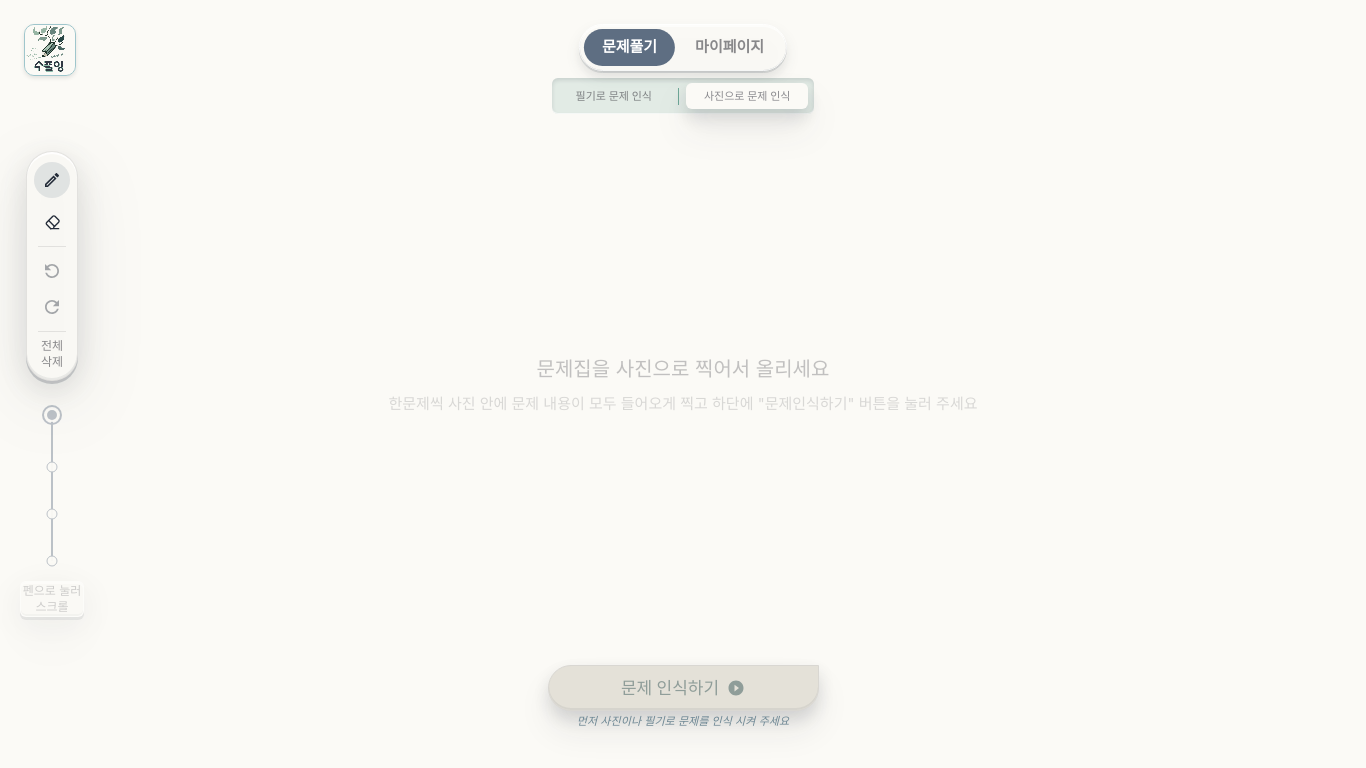
Test: recognize/solve API 연동(모킹) — Result Panel 표시 › 풀이 성공 후 AI가 만들어준 제안 질문 pill이 표시되고, 누르면 입력창을 거치지 않고 곧바로 전송된다(오너 요청, 2026-09)
The image size is (1366, 768).
Press the mouse on the drawing at {"x": 683, "y": 384}, box [0,0,1365,767]
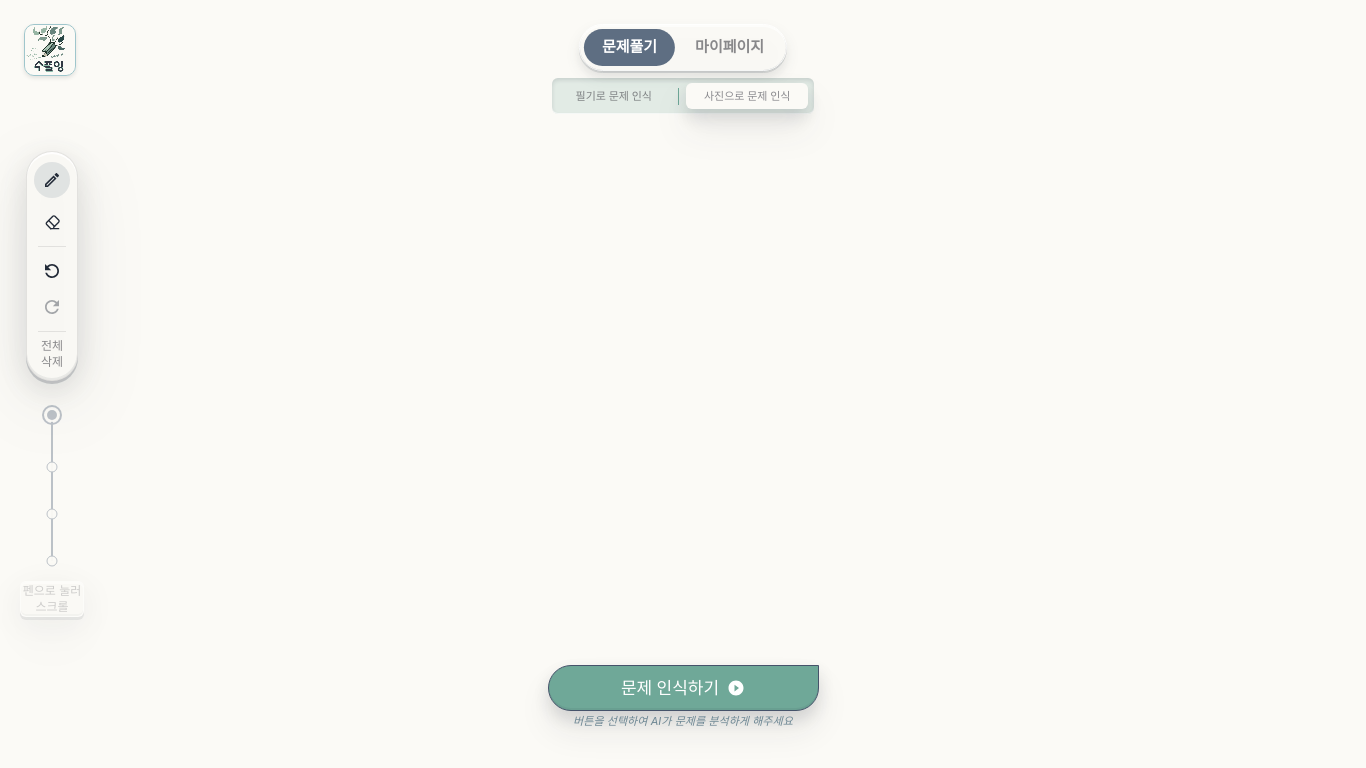
Click the button "문제 인식하기" at {"x": 683, "y": 688}, box [548,665,818,711]
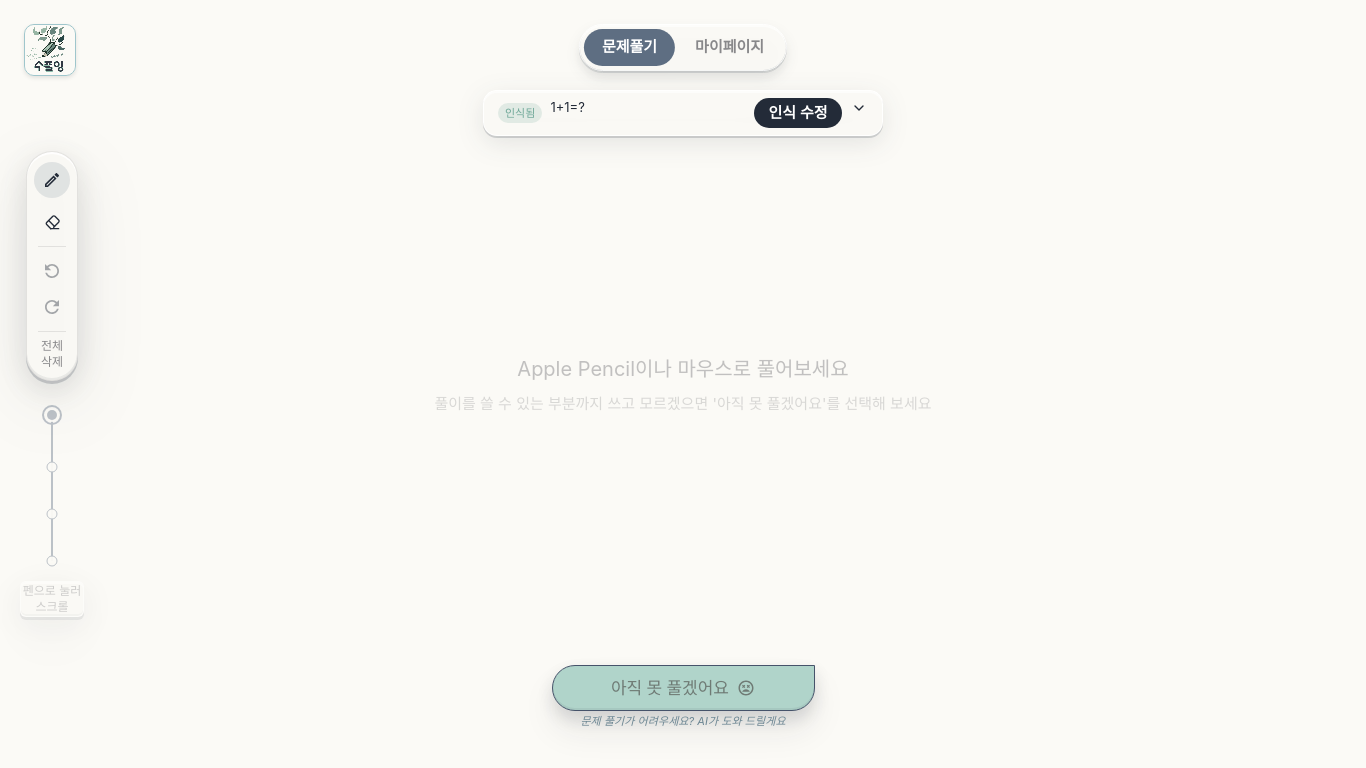
Result: the button "아직 못 풀겠어요" is enabled
Click the button "아직 못 풀겠어요" at {"x": 683, "y": 688}, box [552,665,814,711]
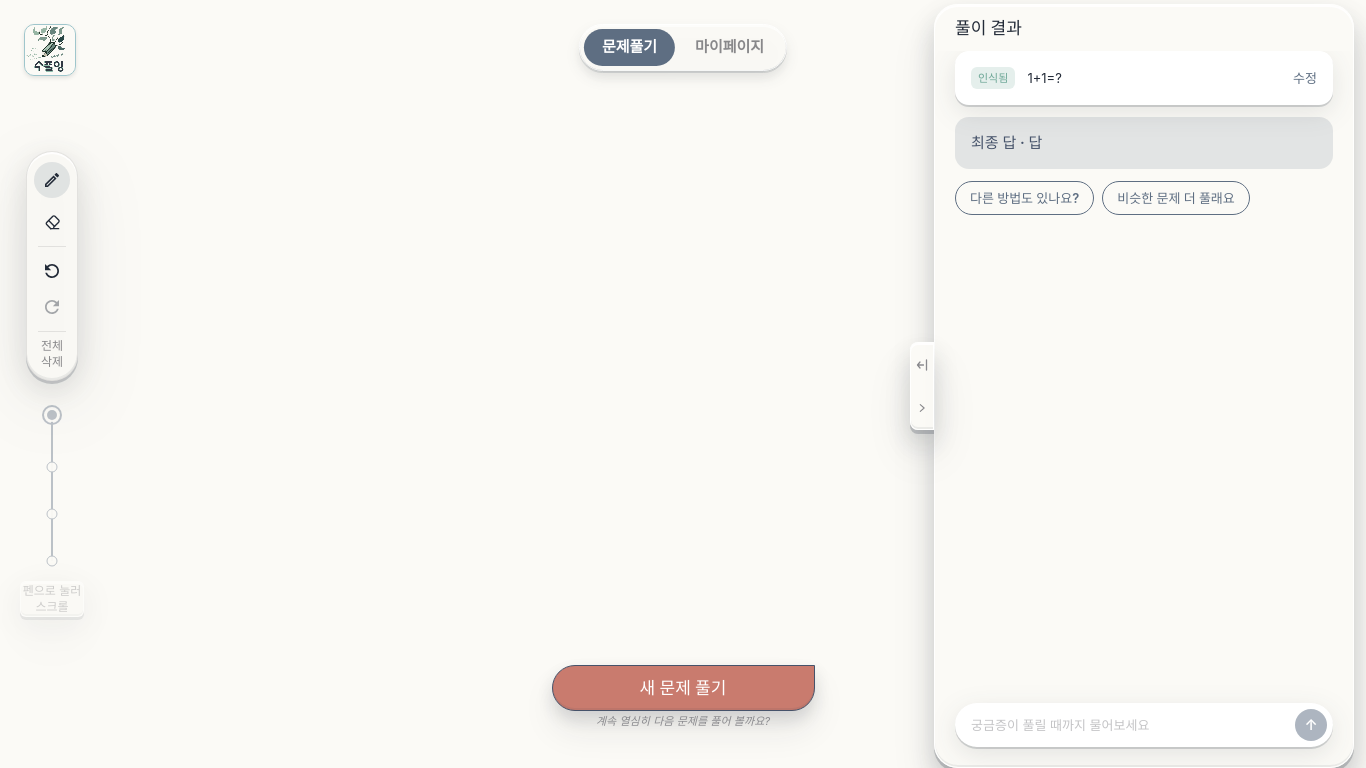
Result: the heading "풀이 결과" is shown at [955,17,1022,39]
Result: the button "비슷한 문제 더 풀래요" is shown at [1102,181,1250,215]
Click the button "다른 방법도 있나요?" at {"x": 1025, "y": 198}, box [955,181,1094,215]
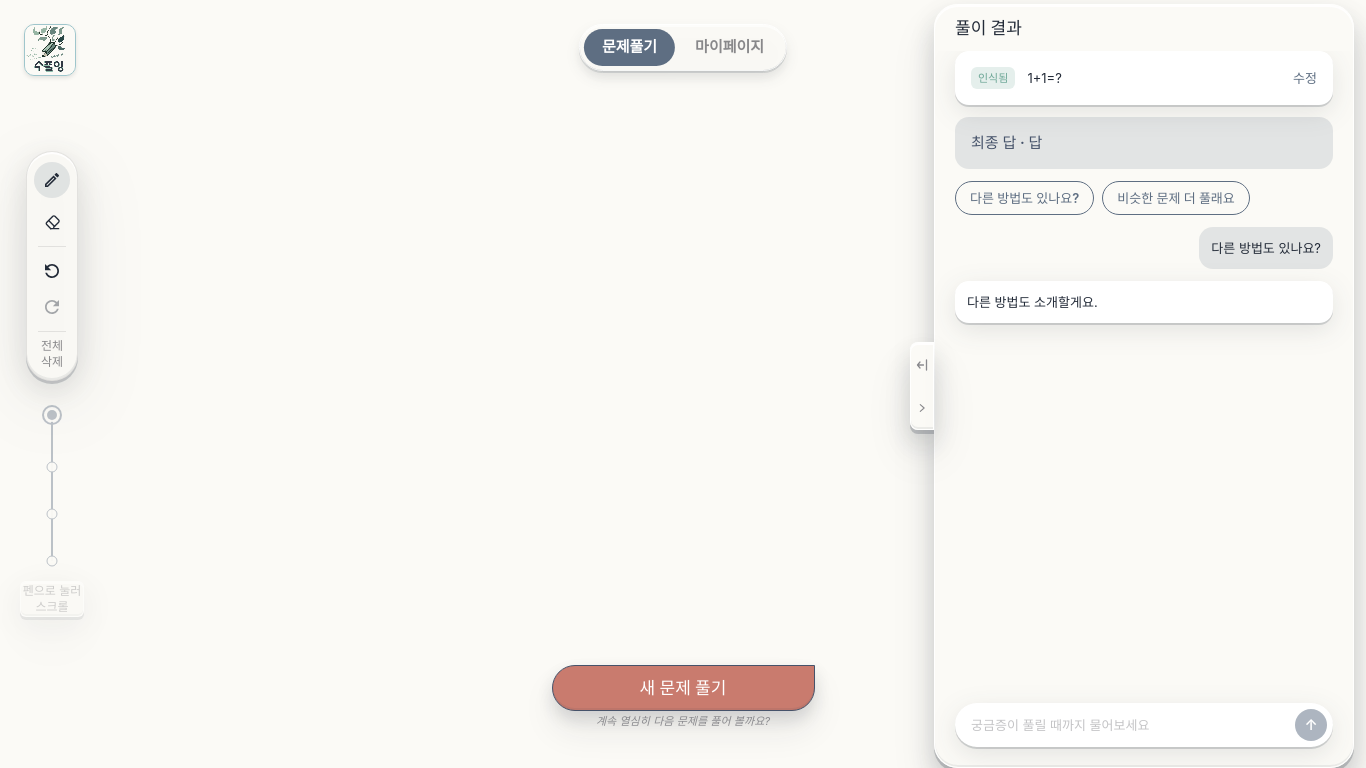
Result: the field with placeholder "궁금증이 풀릴 때까지 물어보세요" is empty at [971,716,1287,734]
Result: the text "다른 방법도 소개할게요." is shown at [967,294,1098,310]
